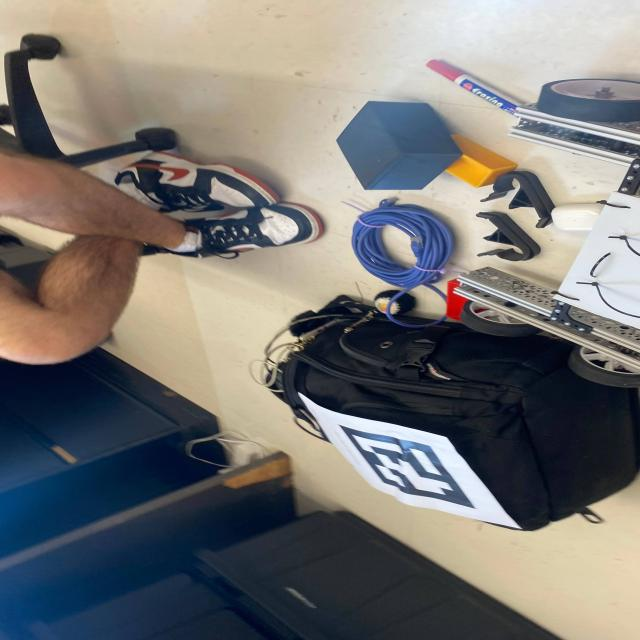red-specimen: (445, 278, 468, 322)
yellow-specimen: (445, 135, 517, 187)
